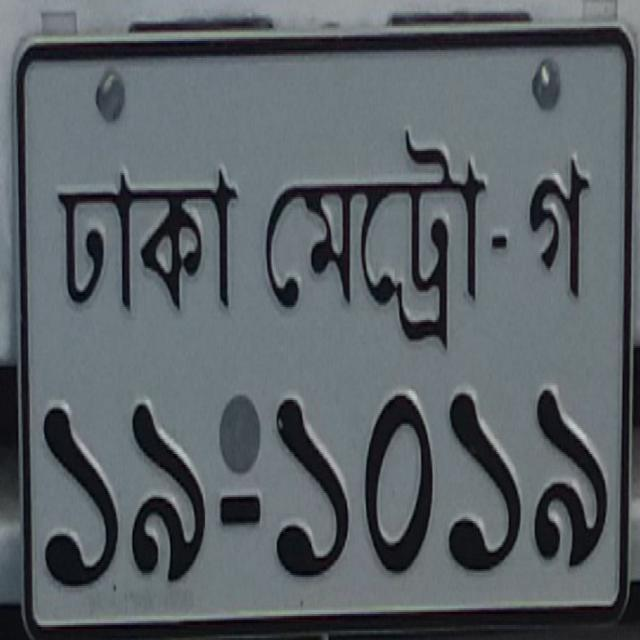numberplate: (12, 18, 636, 632)
